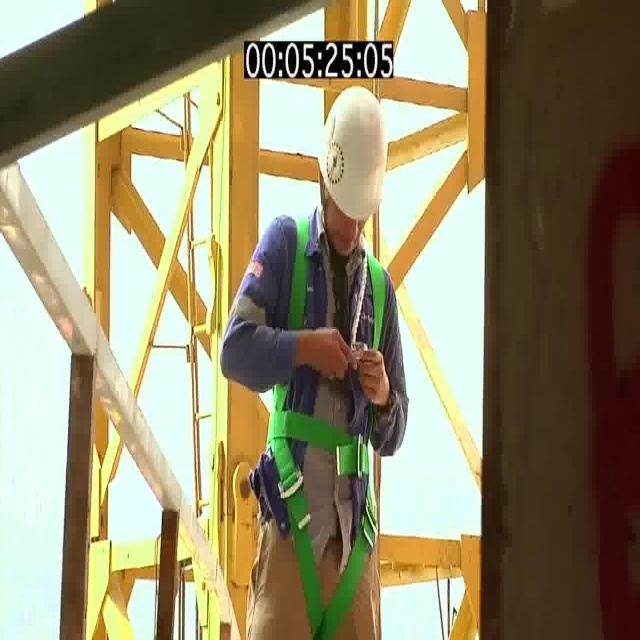Arnes_seguridad: (267, 217, 385, 627)
